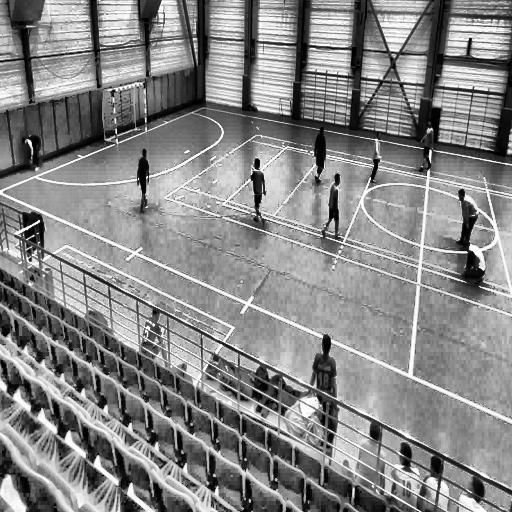player: (455, 187, 482, 253), (460, 239, 488, 293), (322, 172, 342, 240), (249, 156, 267, 229), (20, 134, 44, 174), (136, 147, 150, 214), (418, 119, 435, 173), (312, 124, 326, 185), (366, 131, 381, 186)
